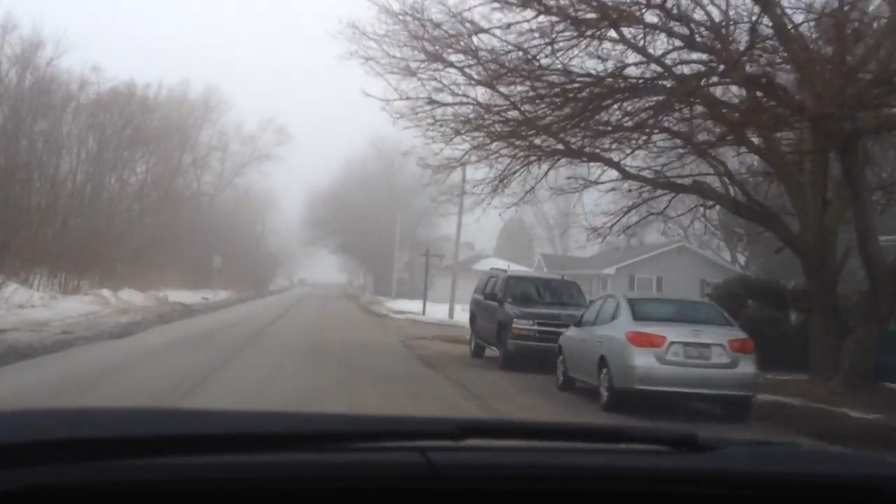car: (555, 290, 763, 423), (468, 264, 600, 369)
